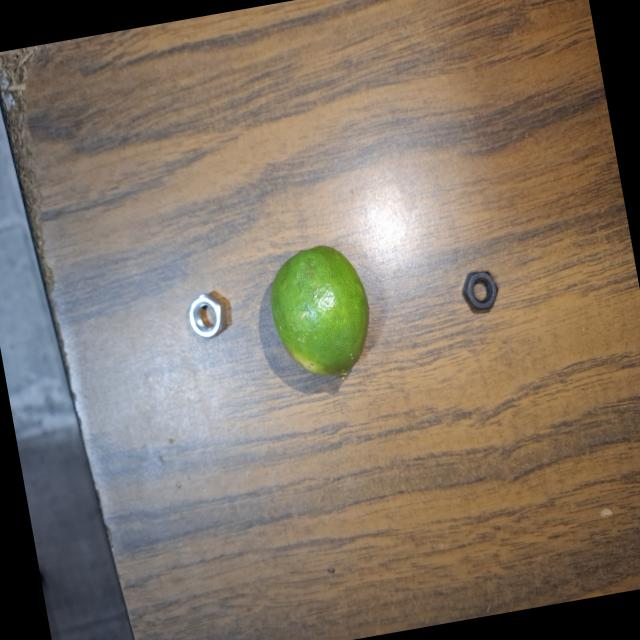limon: (252, 232, 388, 398)
milimetrico: (447, 257, 515, 323)
tuerca: (176, 286, 234, 350)
